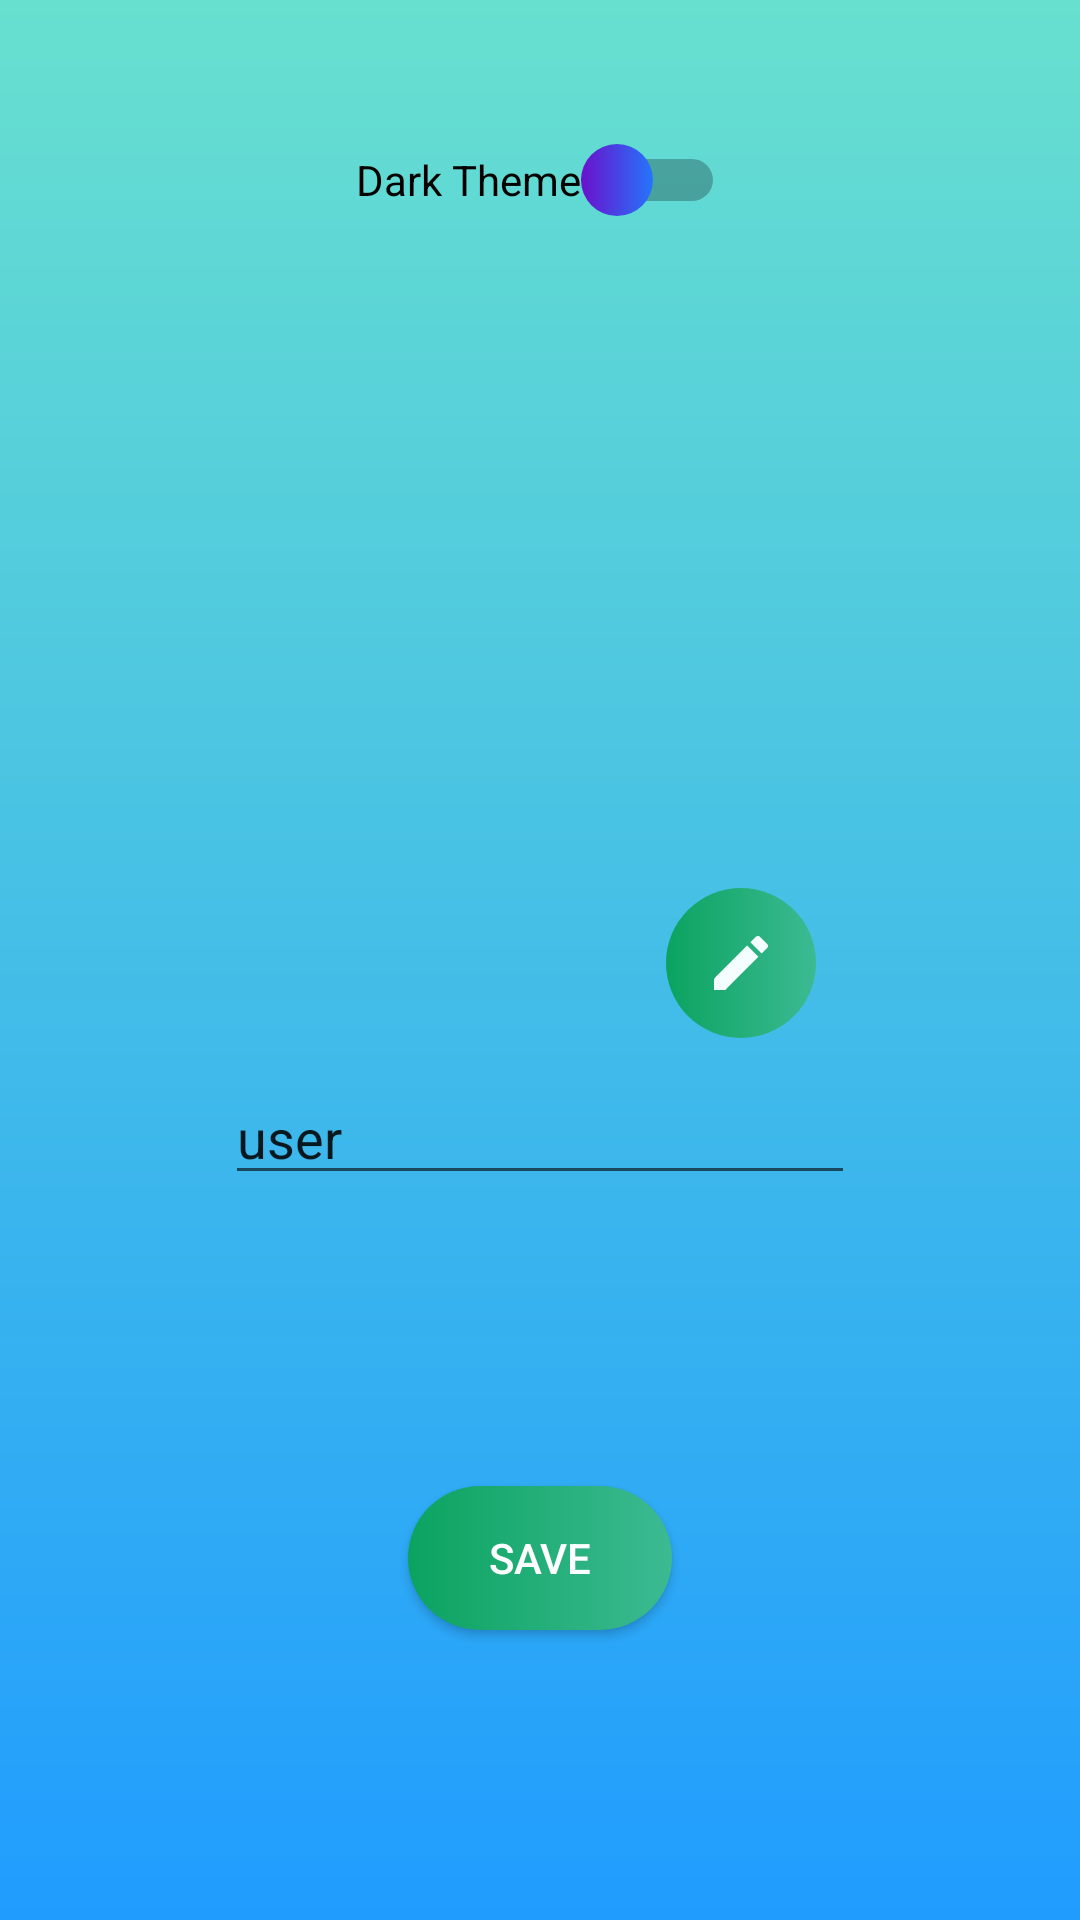

Icons on this 1080w x 1920h Android screen, each with its box as (left=x1, top=y1, right=x2, bottom=y2):
edit: (left=666, top=888, right=816, bottom=1038)
